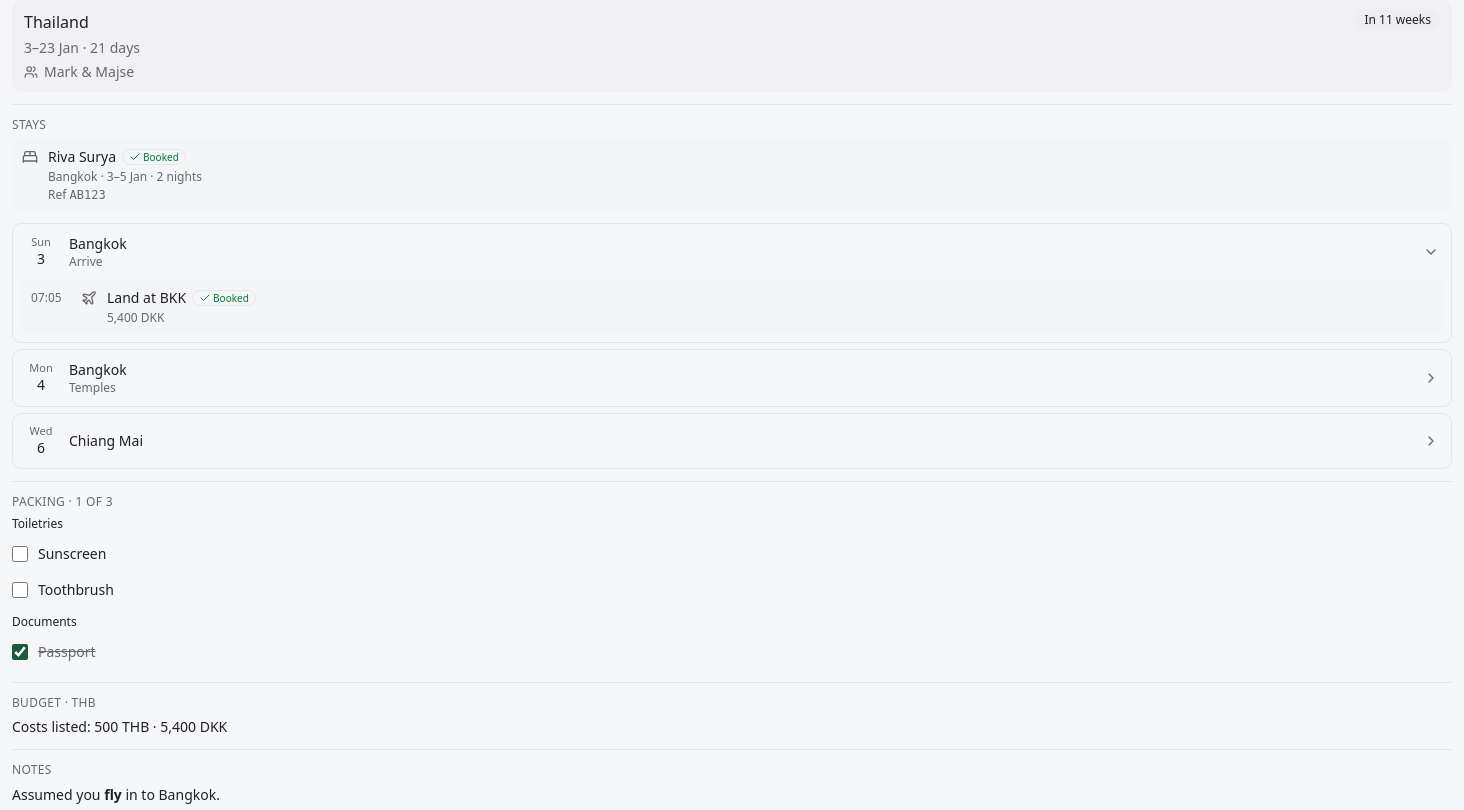
Test: TripView's packing list › saves a run of ticks as one version, a moment after the last
Expected: the heading "Packing · 1 of 3" is shown, left=12, top=493, right=113, bottom=510
Click the checkbox labelled "Sunscreen".
click(20, 554)  # box left=12, top=546, right=28, bottom=562
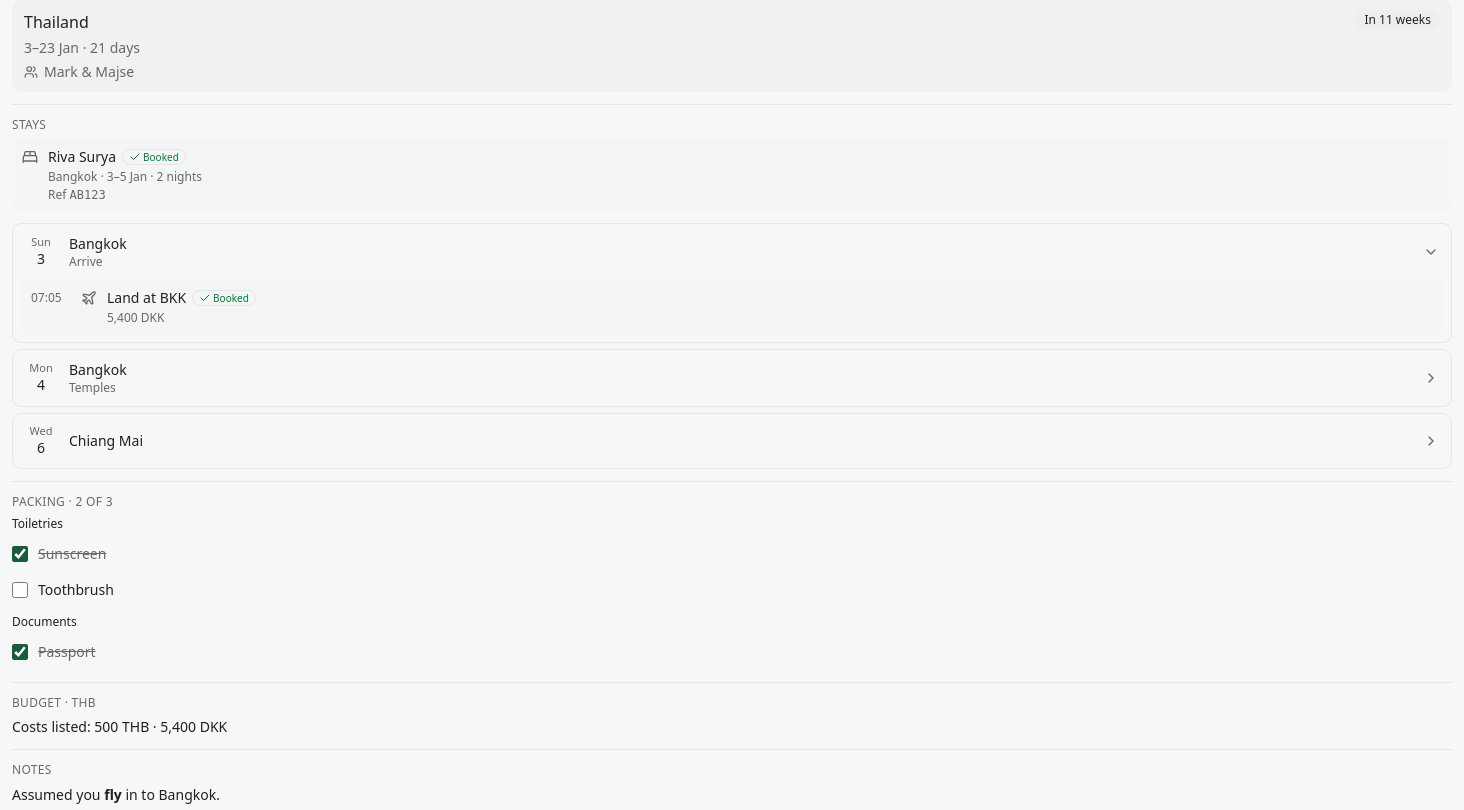
Click the checkbox labelled "Toothbrush".
click(20, 590)  # box left=12, top=582, right=28, bottom=598
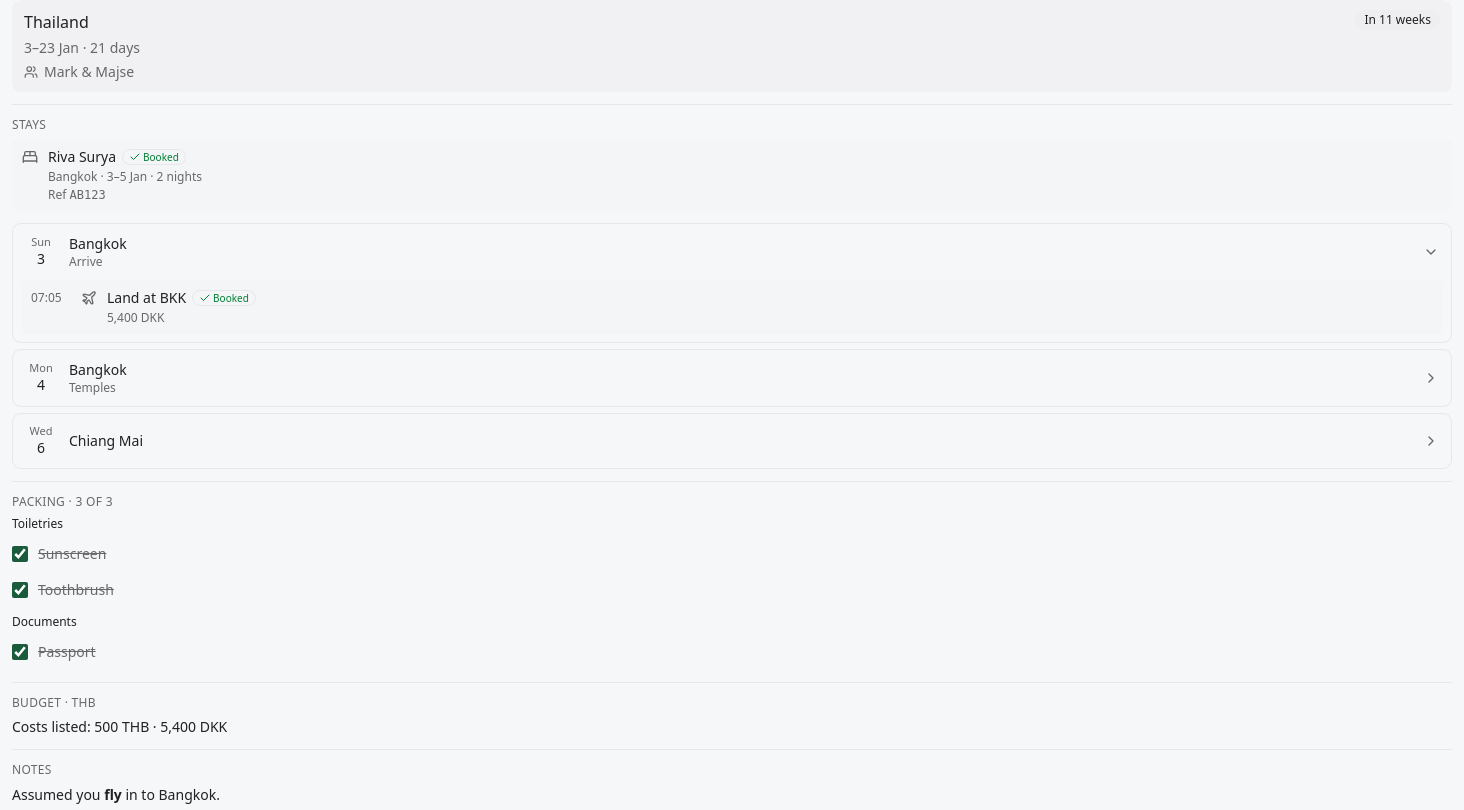
Click the checkbox labelled "Passport".
click(20, 652)  # box left=12, top=644, right=28, bottom=660
Wait 1500 ms
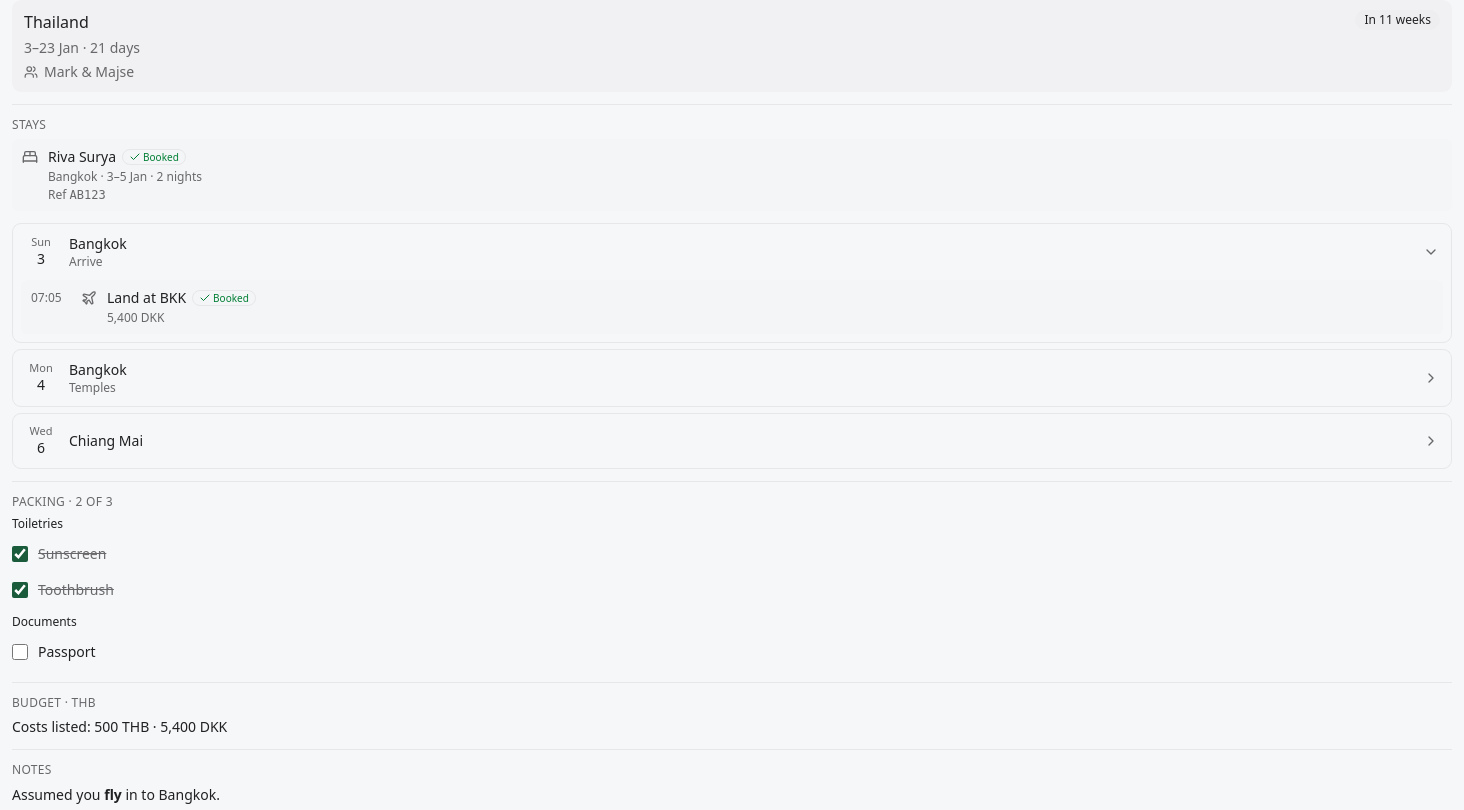
Expected: the checkbox labelled "Sunscreen" is checked, left=12, top=546, right=28, bottom=562
Expected: the checkbox labelled "Passport" is not checked, left=12, top=644, right=28, bottom=660
Expected: the heading "Packing · 2 of 3" is shown, left=12, top=493, right=113, bottom=510
